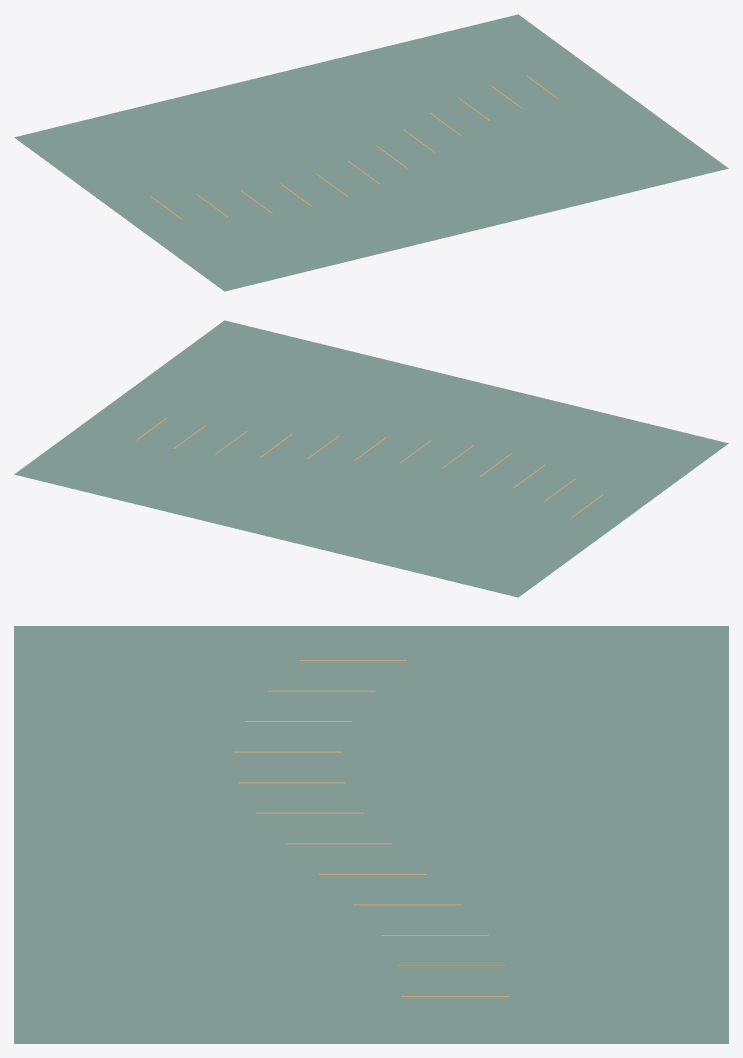
The model's file is 275_L120_L10_LayerReference.glb.
The picture shows the model from 3 angles, top to bottom: view 1: azimuth 30°, elevation 25°; view 2: azimuth 150°, elevation 25°; view 3: azimuth 270°, elevation 25°; orthographic projection. The views are drawn at different scales.
Parts seen in each view (by area): view 1: 0000__PSMAT__dielectric; view 2: 0000__PSMAT__dielectric; view 3: 0000__PSMAT__dielectric.
Boxes of the visible parts, x1,y1,x2,y2 form: 0000__PSMAT__dielectric: [14, 14, 728, 291]; 0000__PSMAT__dielectric: [14, 320, 728, 597]; 0000__PSMAT__dielectric: [14, 626, 728, 1043].
Bounding box in the file's own units: 0.506 × 0.00016 × 0.366.
